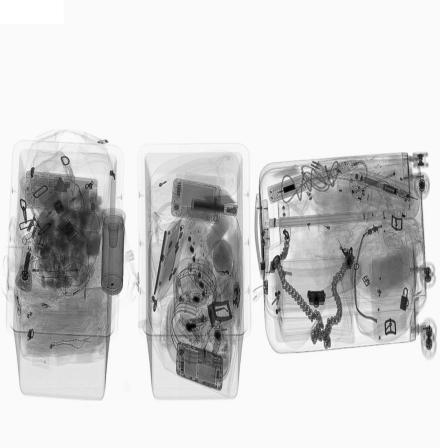Lighter: (14, 287, 23, 317)
